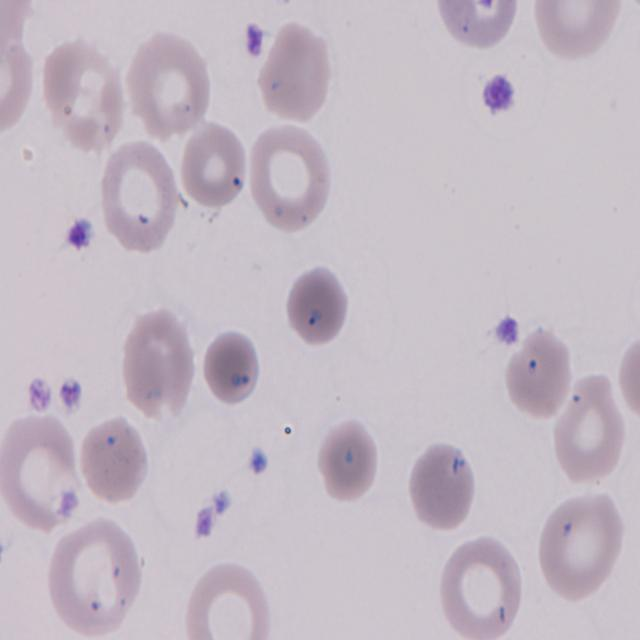RBC: (45, 510, 146, 632), (534, 484, 628, 608), (41, 34, 132, 154), (433, 530, 528, 640), (124, 27, 214, 142), (99, 137, 184, 255), (246, 119, 333, 232), (3, 414, 84, 535), (550, 371, 633, 486), (119, 309, 201, 422), (254, 20, 334, 126), (185, 560, 278, 639), (72, 412, 150, 506), (406, 437, 479, 533), (504, 326, 572, 426), (176, 118, 246, 212), (522, 3, 628, 62), (1, 18, 38, 134), (616, 322, 639, 433)
Spherocyte: (282, 264, 350, 350), (317, 420, 383, 506), (205, 323, 264, 412)
